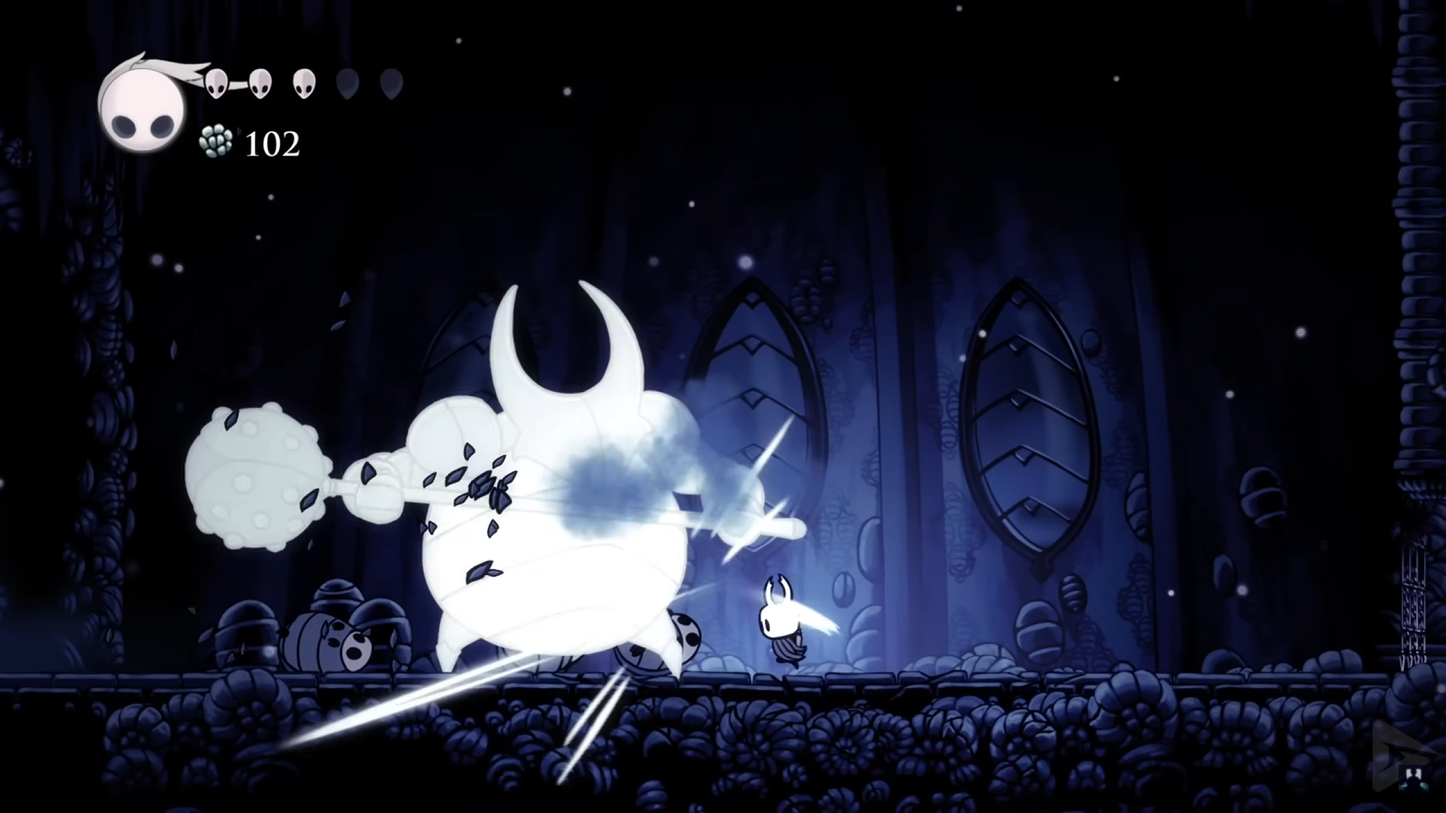HK: (755, 567, 812, 675)
